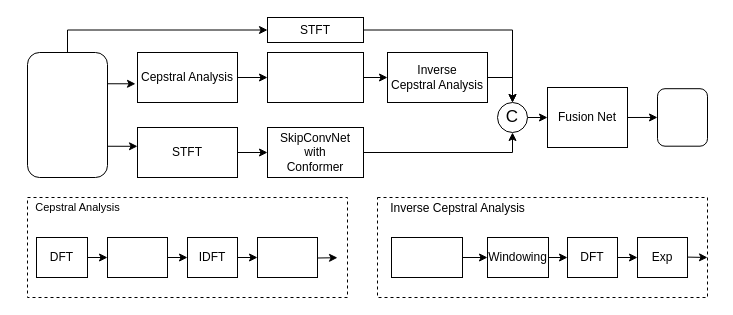
This 733x315 diagram has some shape labels left out. Here are the shapes that lost their labels. From the top down, the centre of each, then its label:
pixel 315 77: SkipConvNet with Confomer
pixel 67 115: Noisy Speech waveform
pixel 682 117: IRM
pixel 137 257: Abs&Log
pixel 287 257: Cepstrum Compress
pixel 426 257: Cepstrum Decompress
